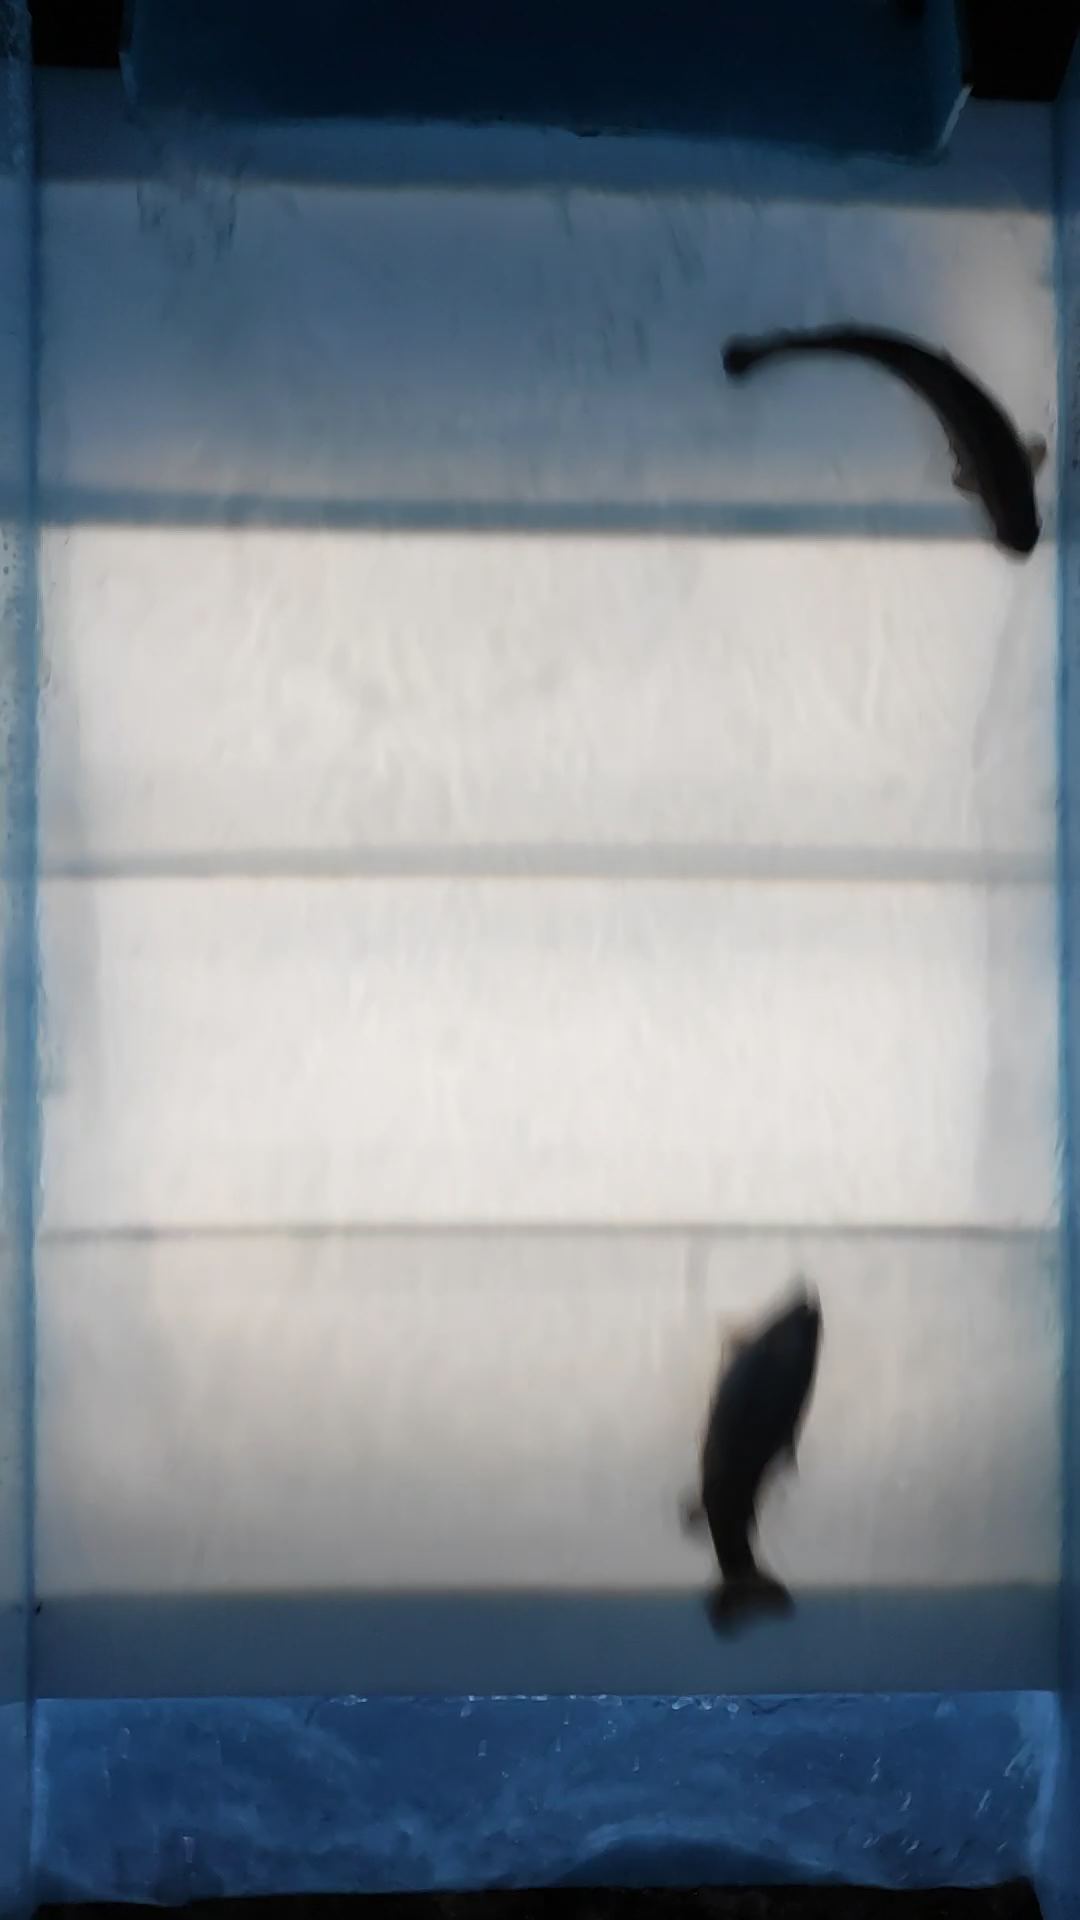fish: (707, 303, 1051, 568), (672, 1280, 831, 1651)
